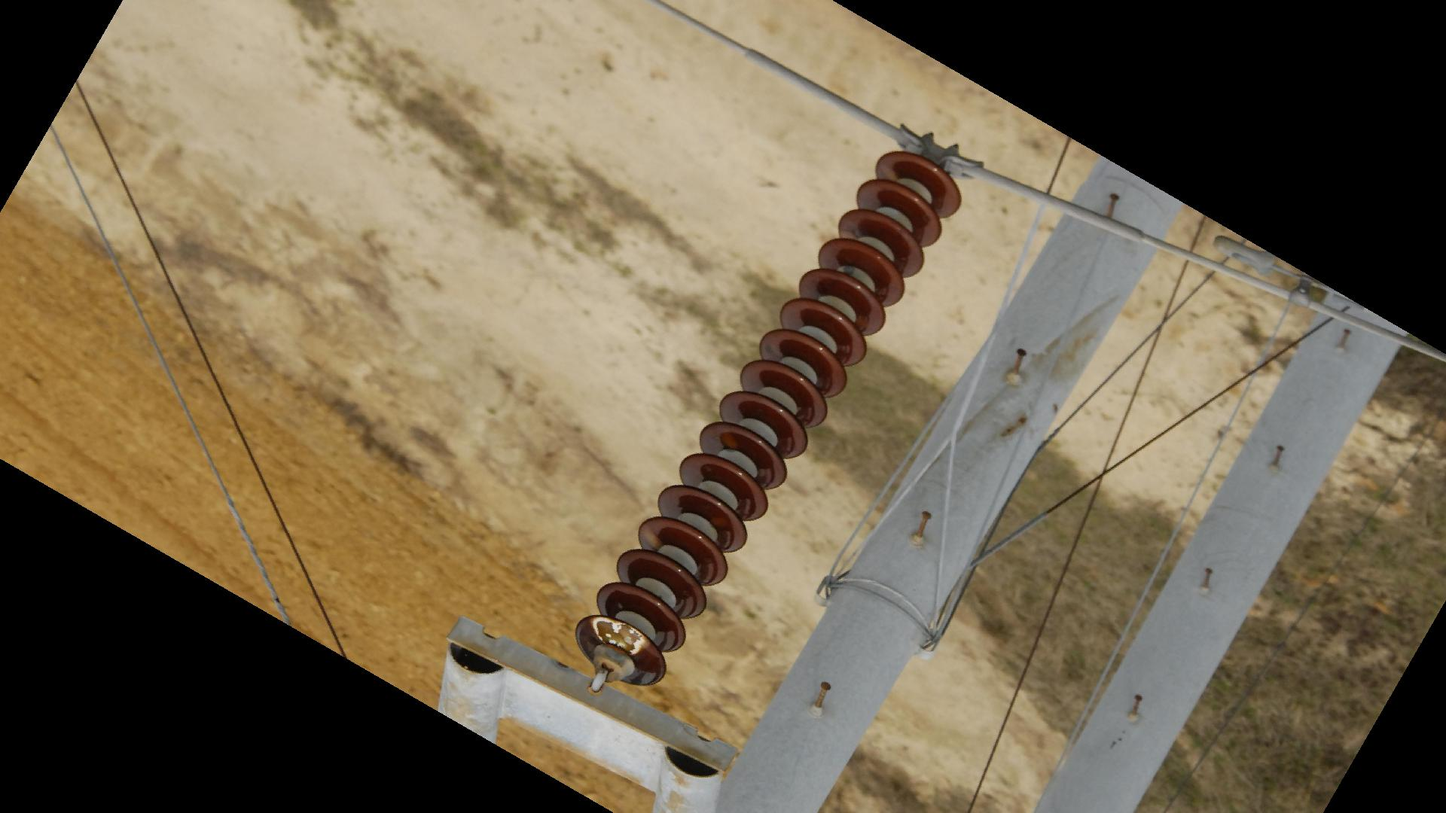insulator: (570, 146, 965, 690)
insulator_flashover: (591, 614, 651, 656), (640, 523, 664, 550)
